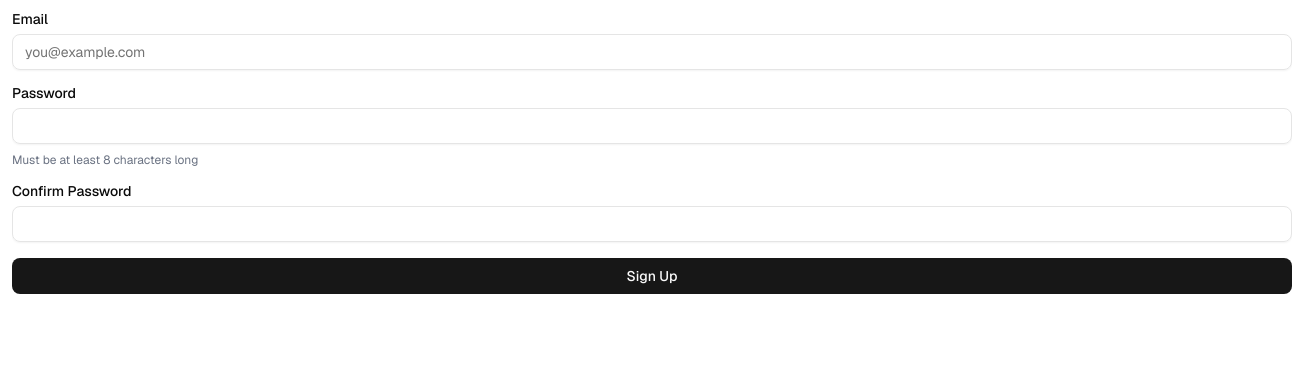
Scenario: error handling › shows error from signUp failure
Step 1. Type "password123" into the password field labelled "Password" → (652, 126), box [12,108,1292,144]
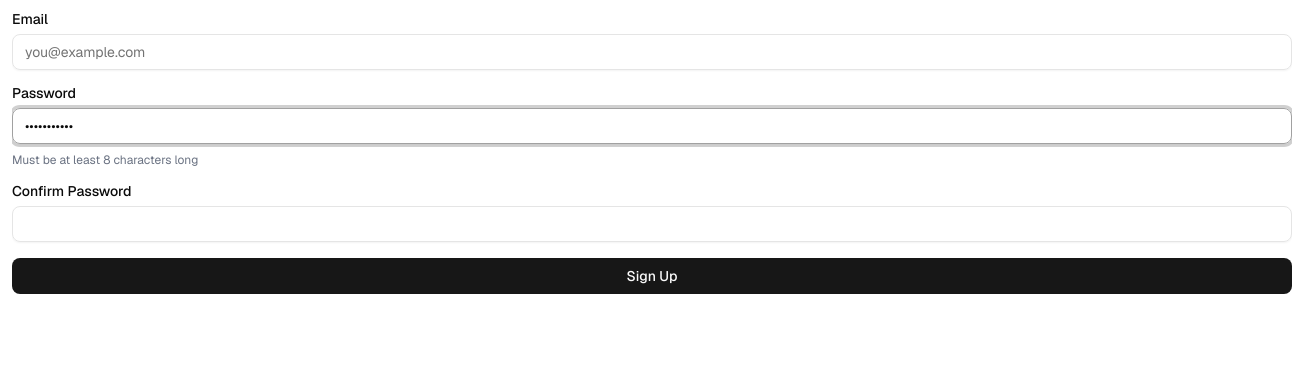
Step 2. Type "password123" into the password field labelled "Confirm Password" → (652, 224), box [12,206,1292,242]
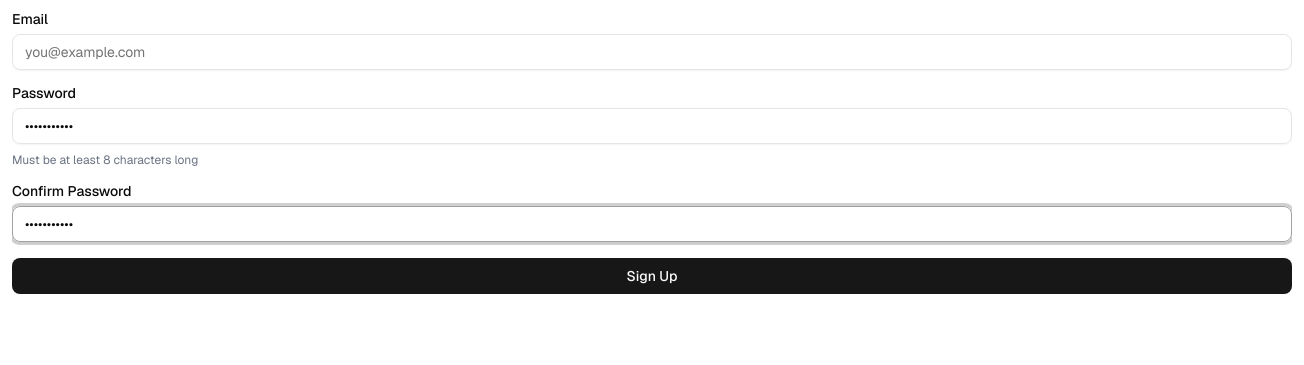
Step 3. Submit the form
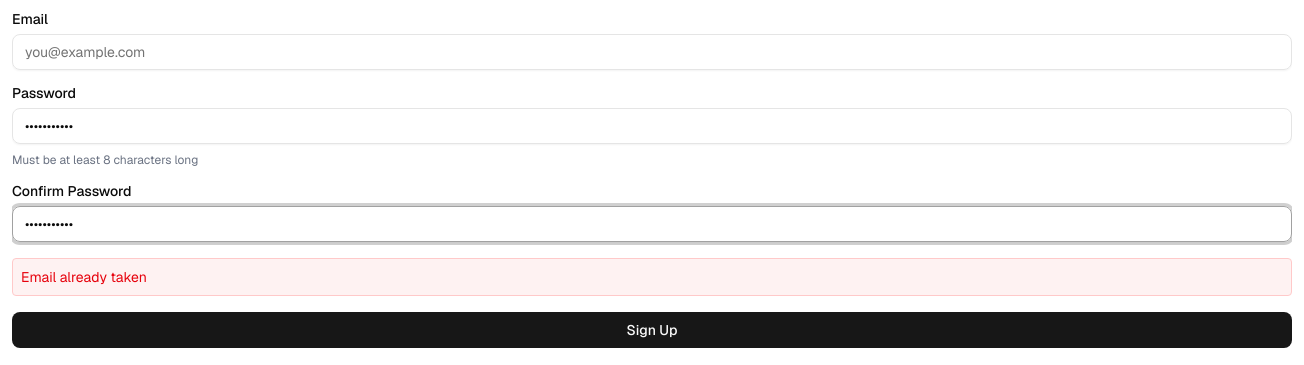
expect the text "Email already taken" is shown: met, box [12,258,1292,296]
